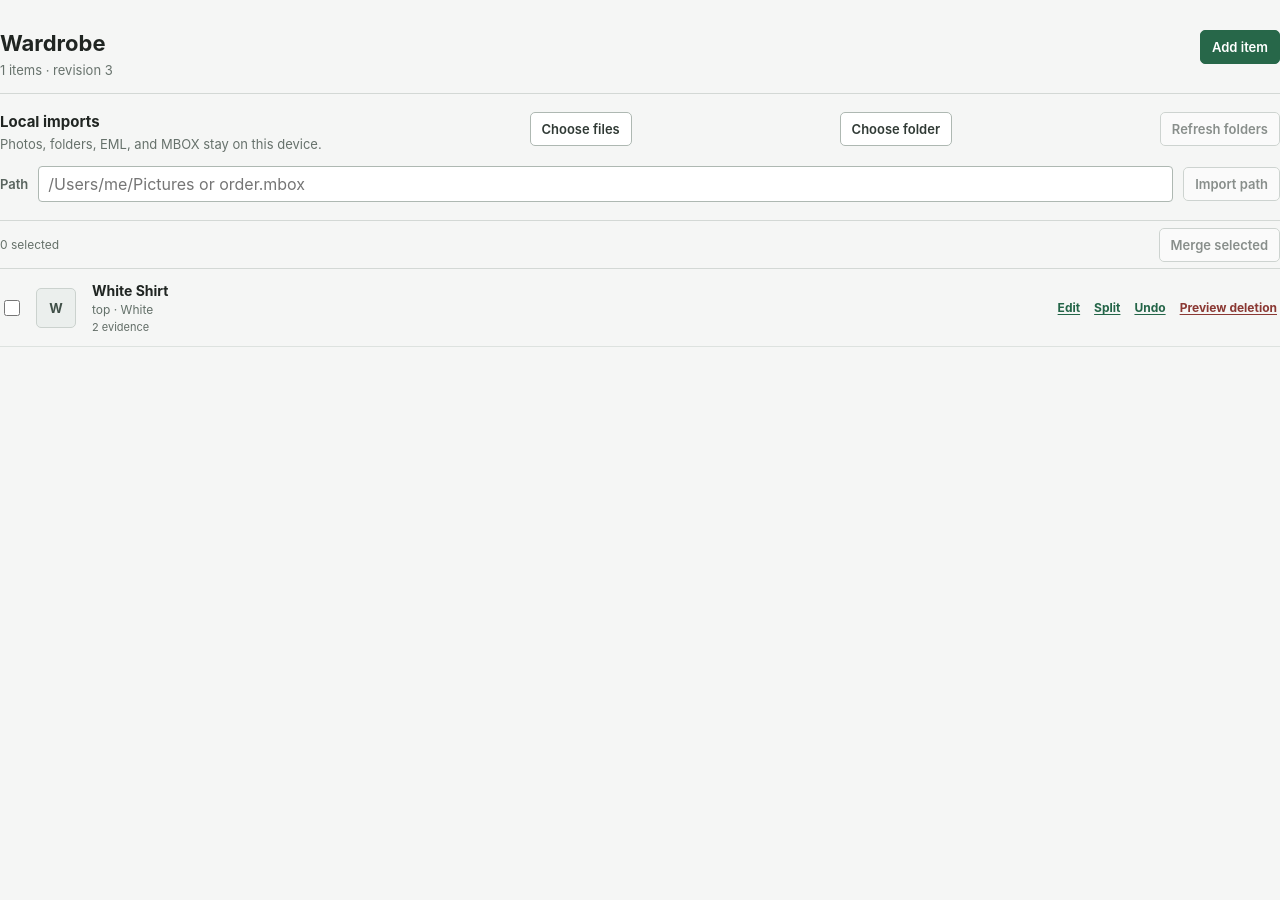
Scenario: P02 workspace › edits with a revision and confirms dependency-aware deletion
Expected: the text "White Shirt" is shown, [92, 282, 168, 298]
Click the button "Edit".
click(1069, 308)  # box [1055, 297, 1083, 318]
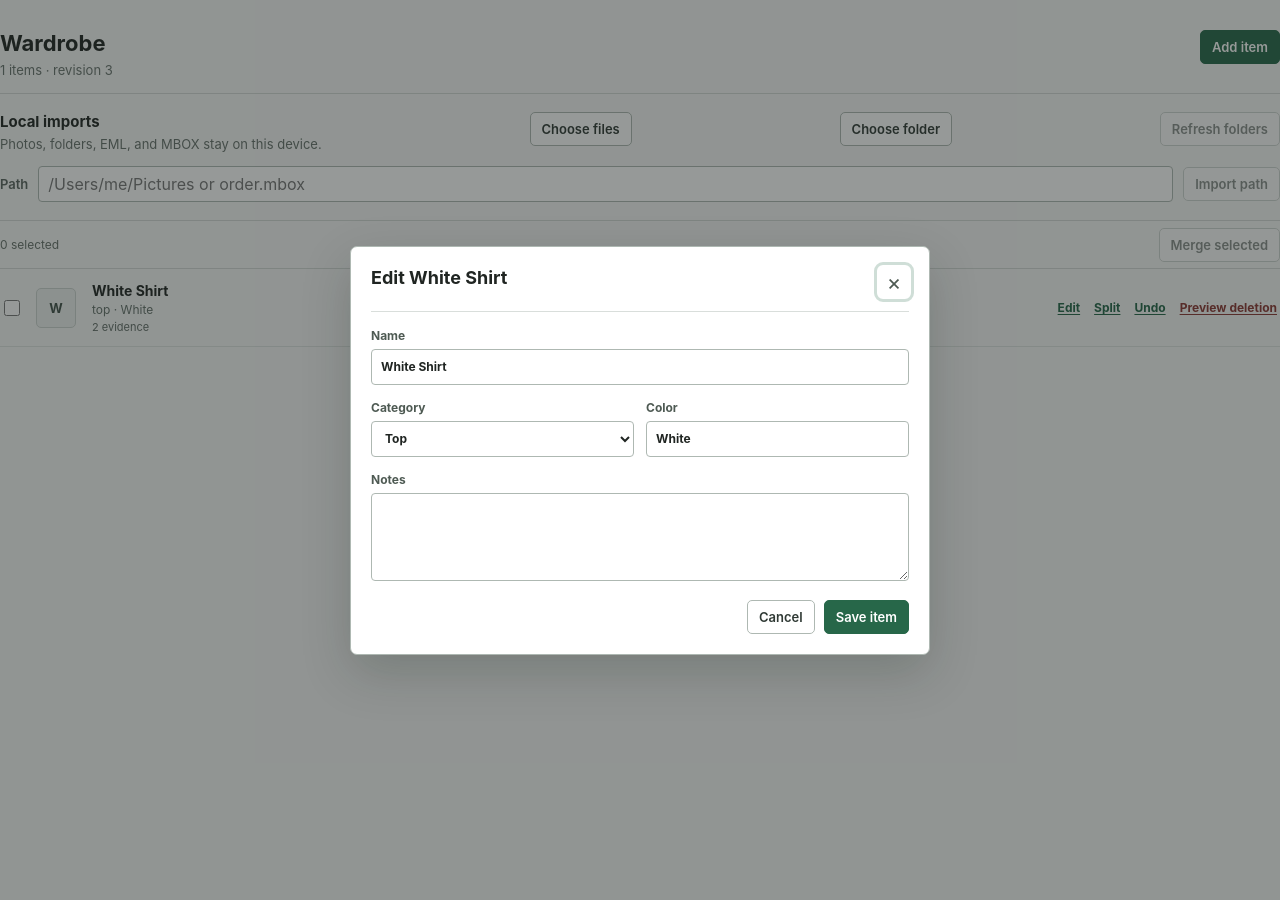
Replace the text in the field labelled "Name" with "Ivory Shirt" at (640, 366), box [371, 348, 909, 384]
Click the button "Save item".
click(866, 616)  # box [824, 600, 909, 634]
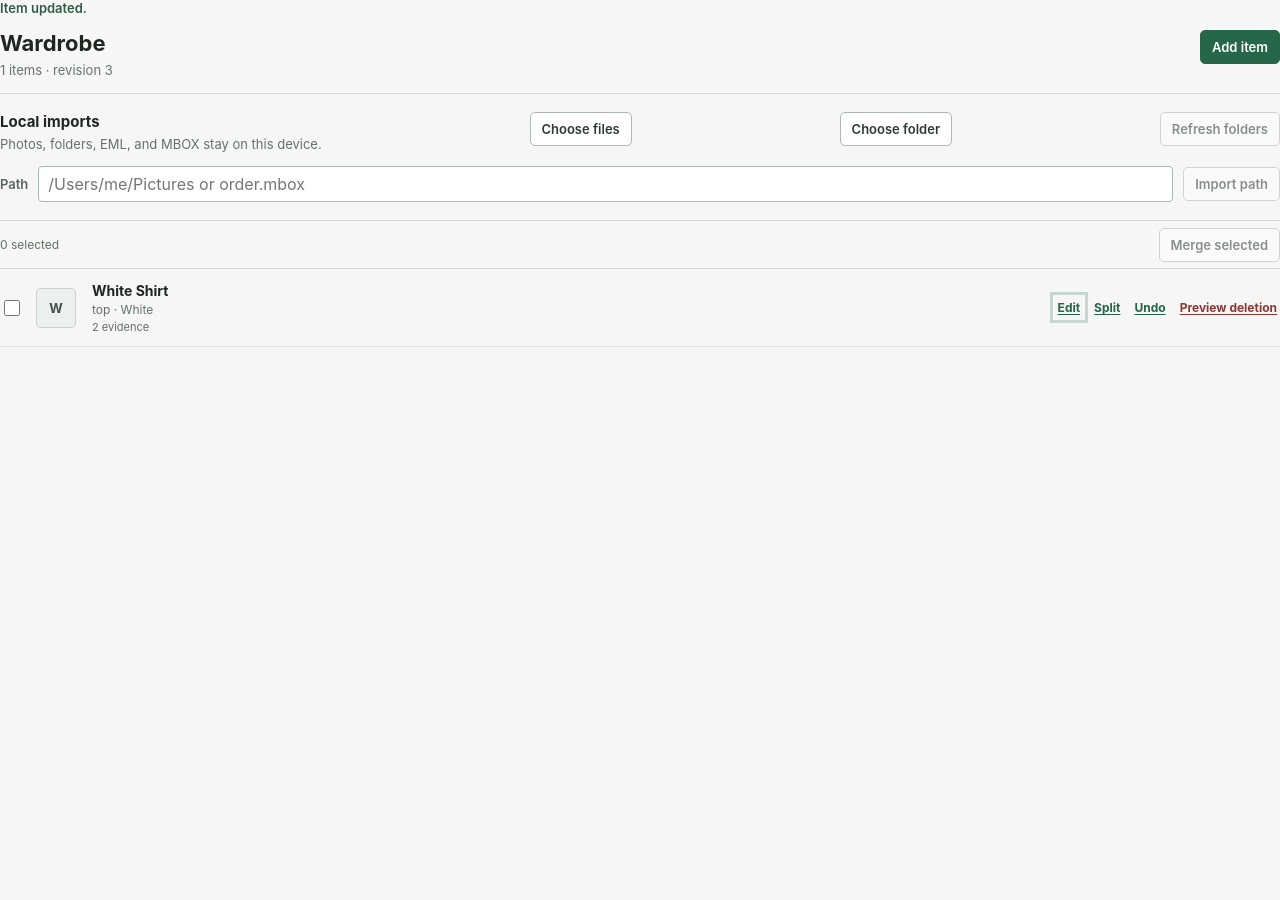
Click the button "Preview deletion".
click(1228, 308)  # box [1177, 297, 1279, 318]
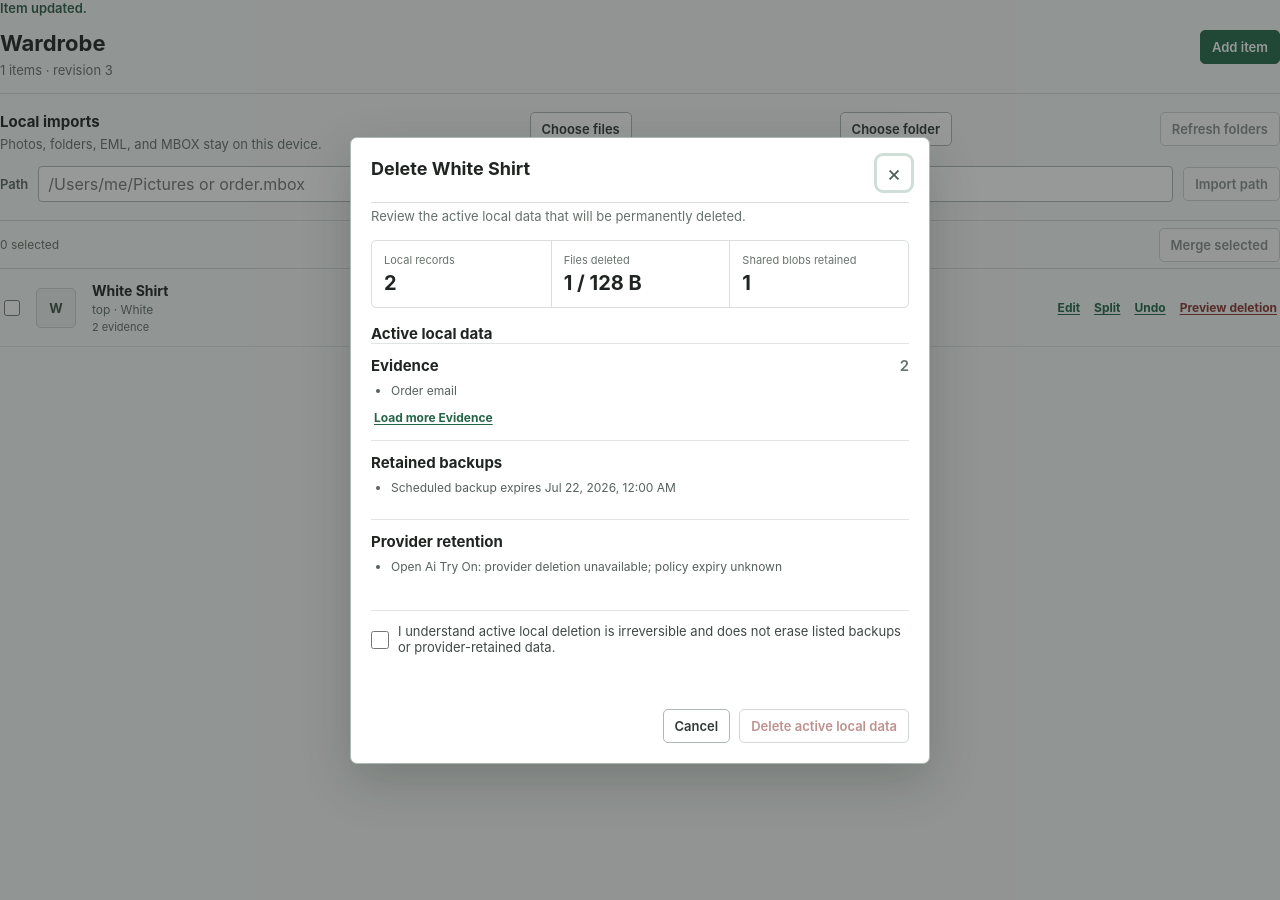
Result: the dialog "Delete White Shirt" is shown at [350, 136, 930, 764]
Result: the heading "Retained backups" is shown at [371, 452, 502, 472]
Result: the heading "Provider retention" is shown at [371, 532, 503, 550]
Click the button "Load more Evidence".
click(433, 417)  # box [371, 406, 496, 428]
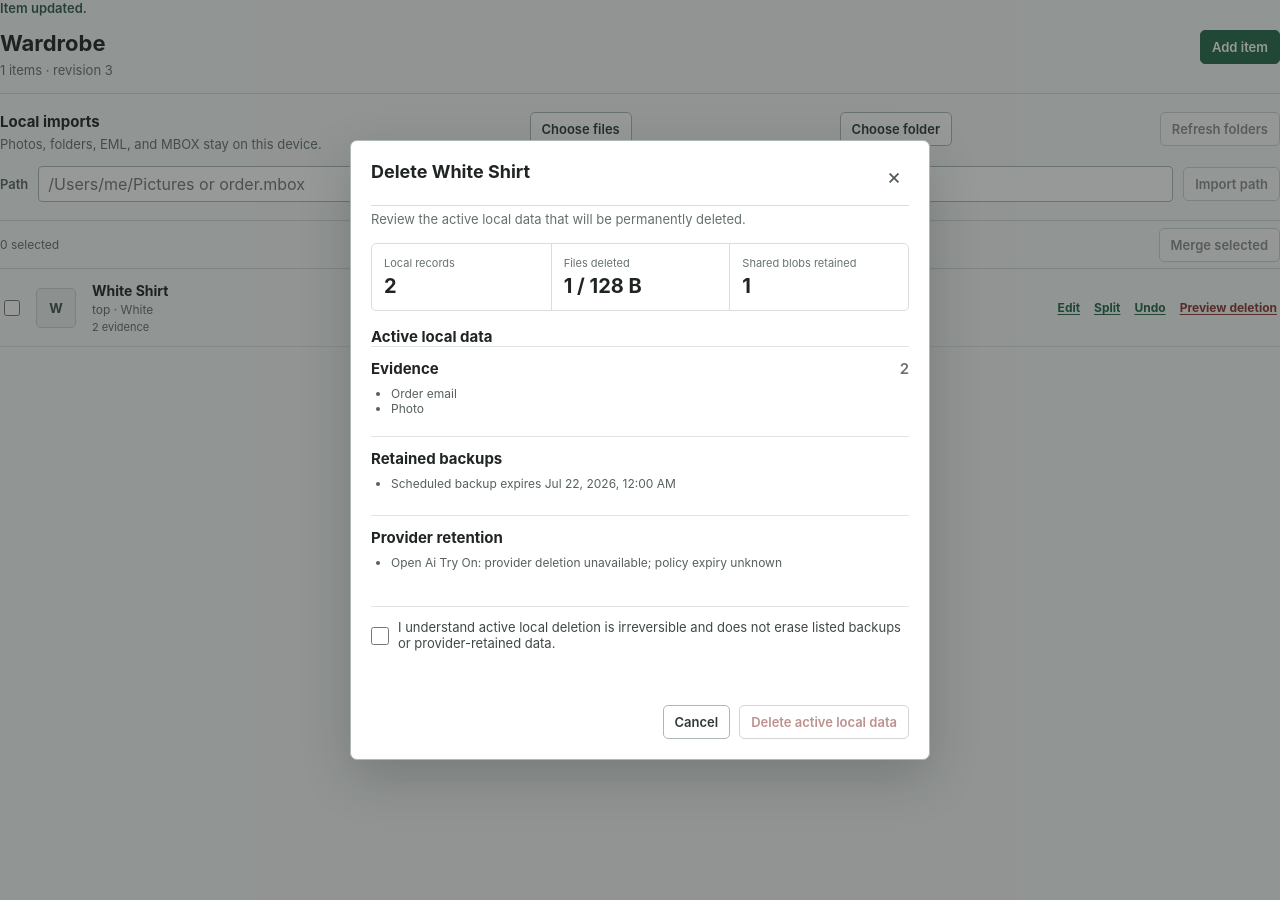
Result: the button "Delete active local data" is disabled at [739, 705, 909, 739]
Result: the list item "Photo" is shown at [391, 401, 424, 416]
Click the checkbox labelled "active local deletion is irreversible".
click(380, 636)  # box [371, 621, 389, 651]
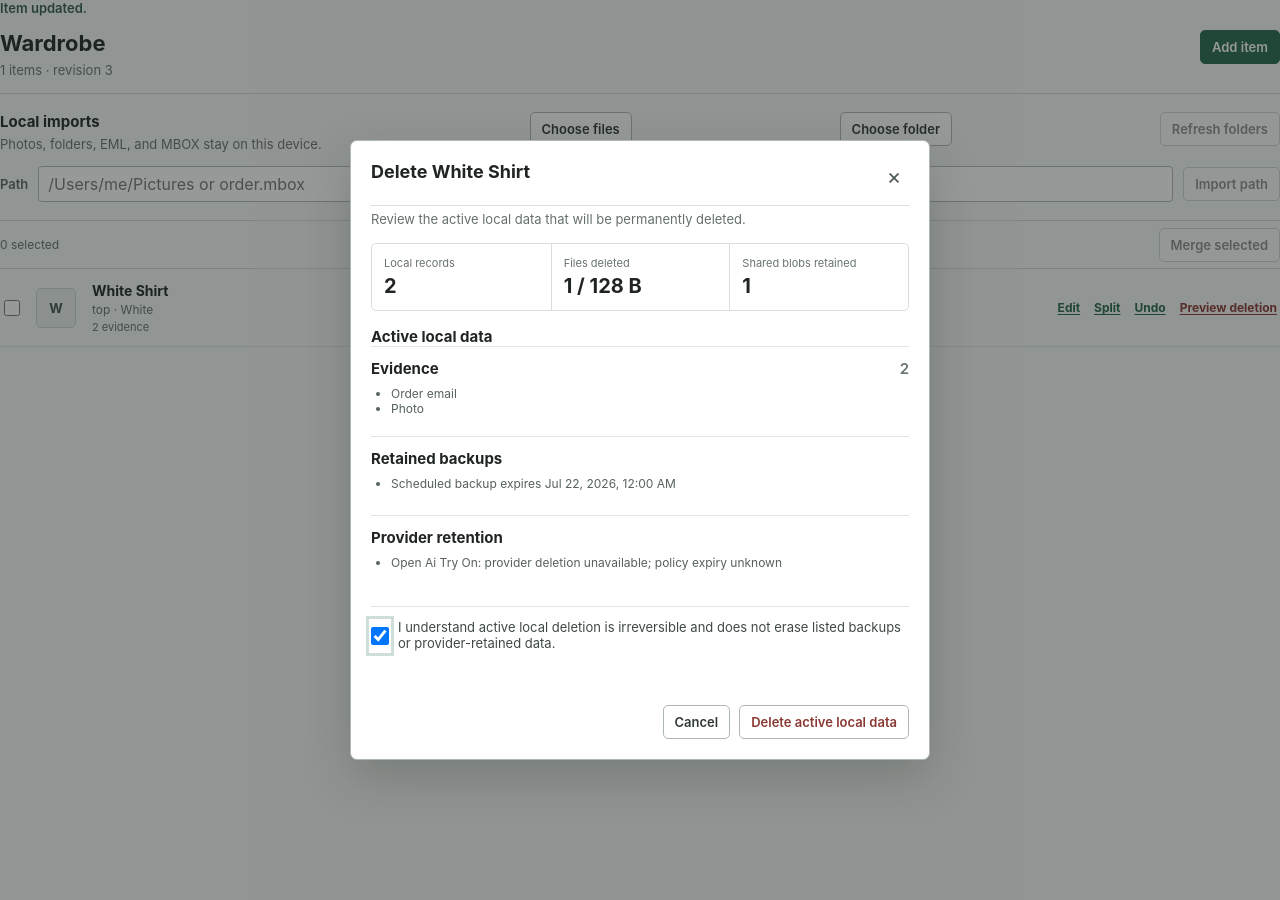
Click the button "Delete active local data".
click(824, 722)  # box [739, 705, 909, 739]
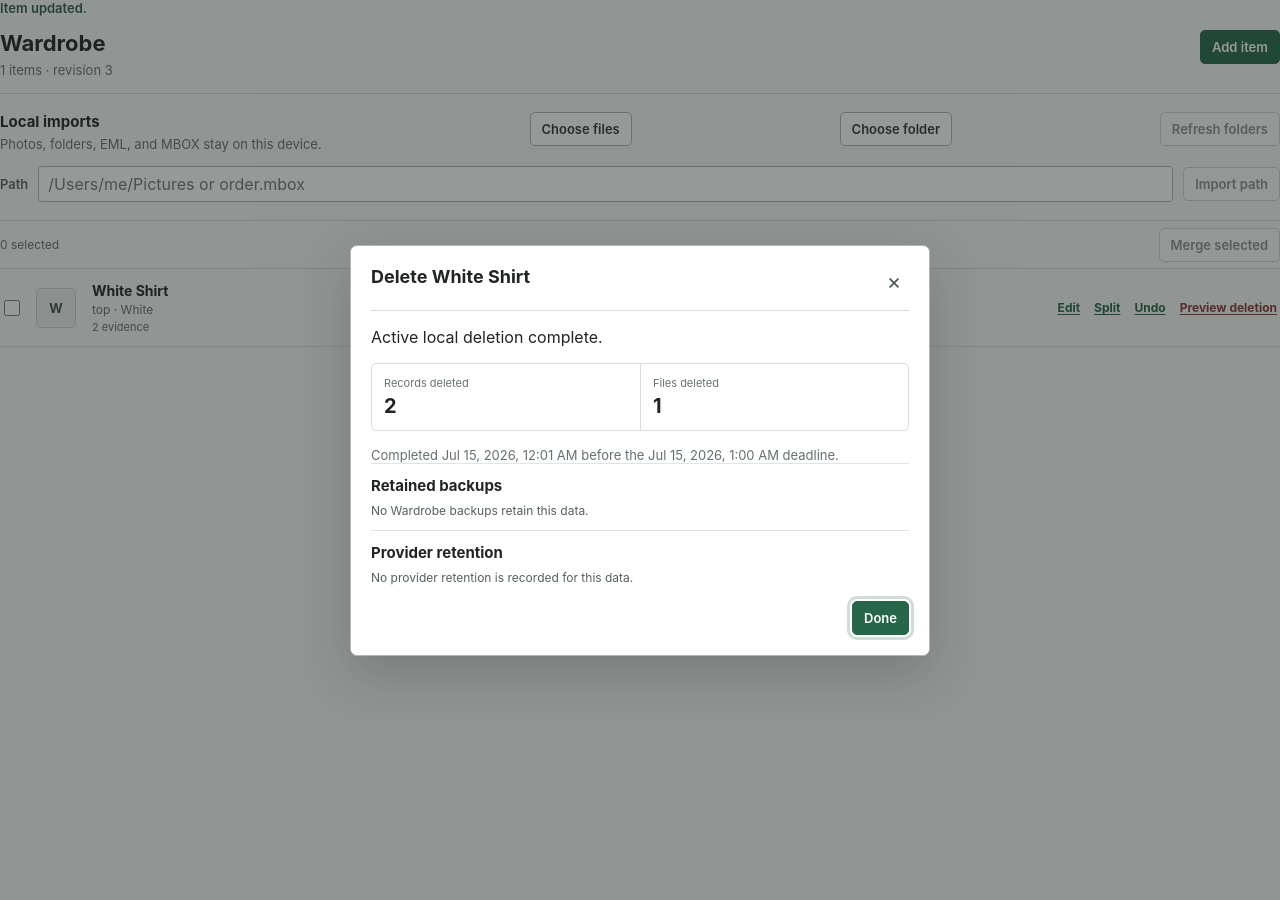
Result: the text "Active local deletion complete." is shown at [371, 326, 603, 346]
